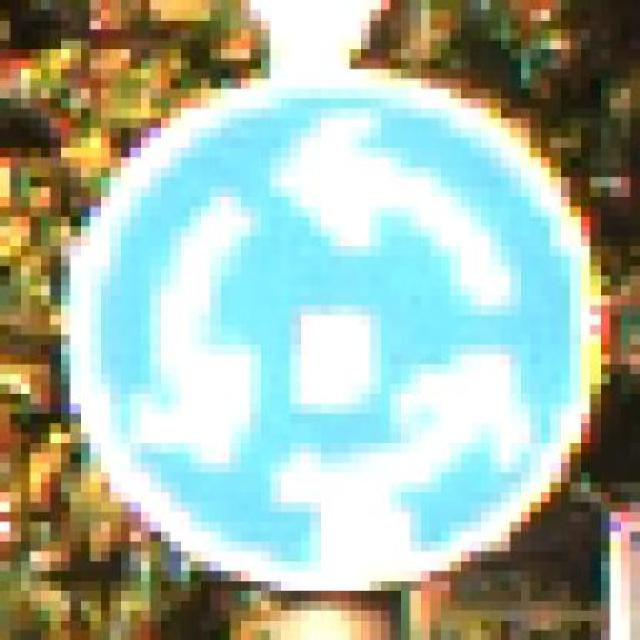Round-About: (20, 39, 620, 610)
